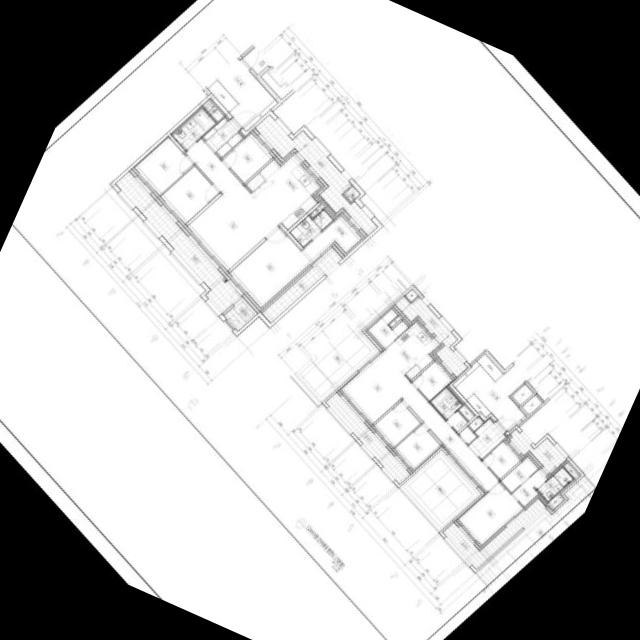background: (0, 0, 640, 640)
space_balconi: (115, 171, 241, 314), (255, 115, 377, 236), (325, 392, 410, 485), (442, 499, 545, 570), (261, 249, 342, 323), (394, 297, 467, 378), (509, 429, 566, 474)
space_bedroom: (227, 228, 311, 312), (455, 483, 522, 548), (131, 137, 193, 198), (158, 167, 219, 226), (222, 131, 274, 183), (392, 425, 441, 473), (372, 402, 420, 449), (412, 360, 454, 401), (482, 440, 522, 479)
space_dressroom: (302, 213, 364, 261), (512, 468, 549, 508), (501, 455, 539, 493)
space_elevator: (260, 66, 293, 100)
space_elevator_hall: (205, 47, 274, 128), (455, 361, 531, 431)
space_front: (202, 116, 244, 158), (468, 417, 508, 460)
space_kitchen: (245, 153, 324, 231), (383, 319, 441, 380)
space_living_room: (338, 351, 499, 494), (185, 139, 279, 273)
space_other: (365, 306, 410, 351), (243, 100, 277, 132), (208, 81, 238, 113), (477, 354, 503, 382), (452, 362, 479, 388), (466, 394, 490, 418), (202, 98, 225, 122), (521, 395, 542, 415), (512, 385, 533, 405), (447, 411, 467, 432), (546, 494, 564, 512), (563, 462, 580, 480), (459, 427, 476, 445), (458, 405, 475, 422), (508, 416, 526, 432), (309, 202, 326, 218), (468, 416, 484, 432), (389, 315, 402, 328), (405, 289, 418, 302)
space_outdoor_room: (224, 297, 257, 331)
space_toilet: (172, 108, 216, 151), (289, 210, 333, 248), (537, 468, 573, 502), (430, 388, 462, 420)
